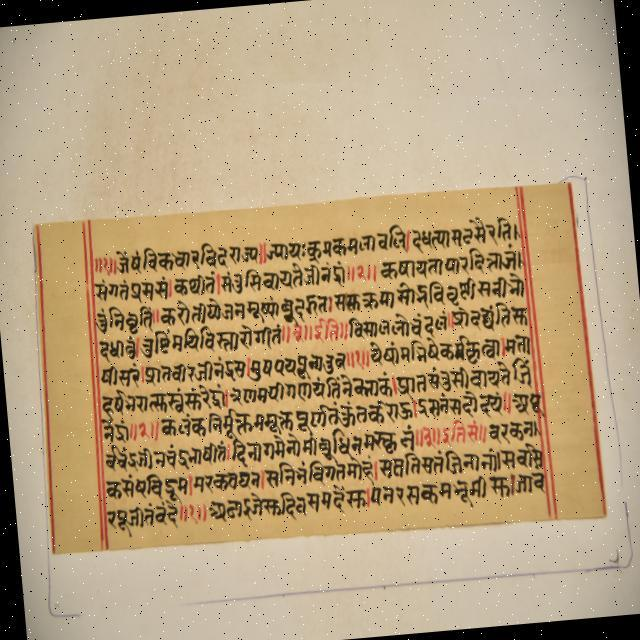text_paragraph: (34, 181, 606, 558)
